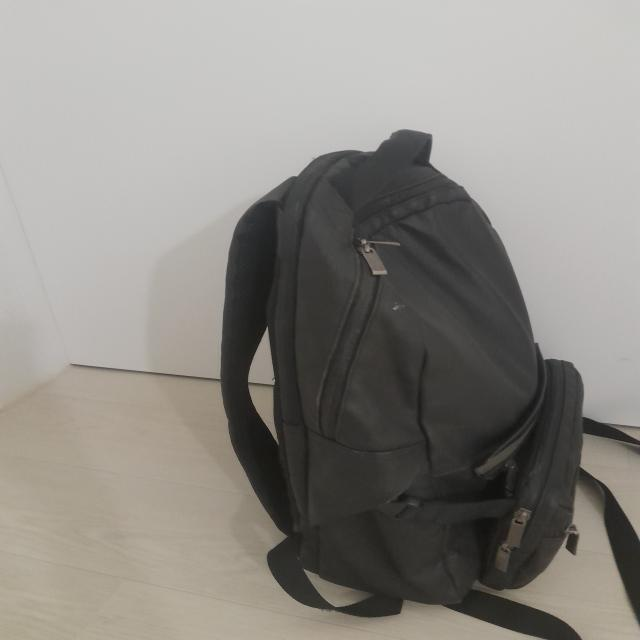backpack: (220, 130, 639, 640)
